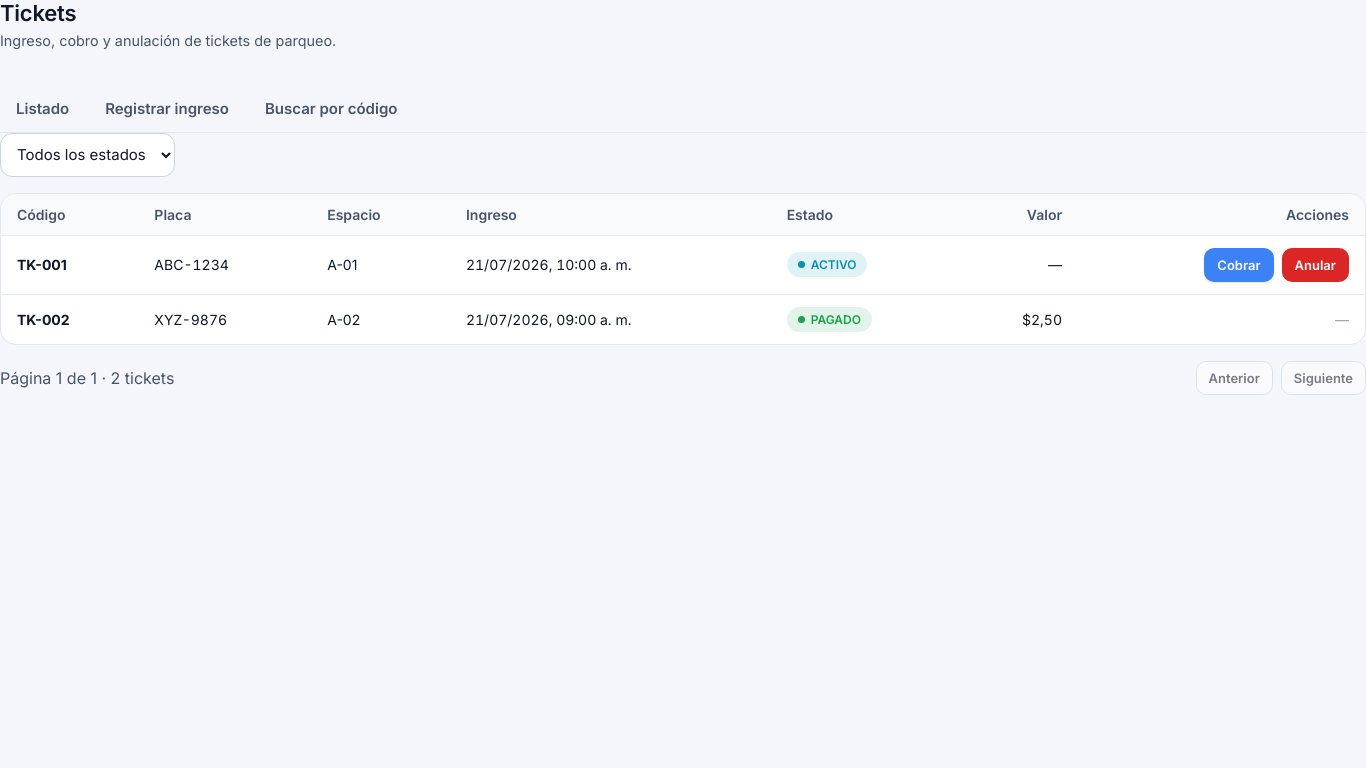
Test: TicketsPage › cancela el modal de anulación
Expected: the text "TK-001" is shown, [17,256,67,273]
Click the button "Anular" at (1315, 265), box [1282,248,1349,282]
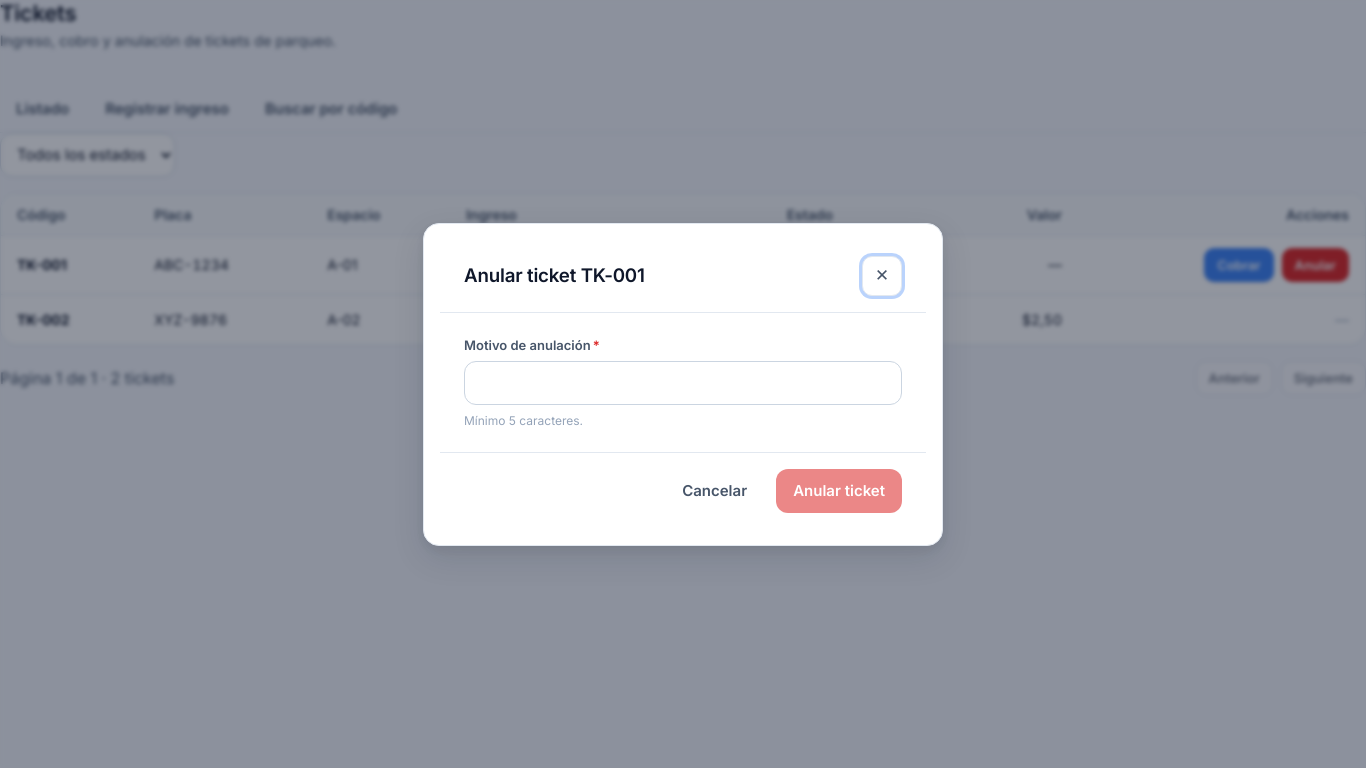
Now the field labelled "Motivo de anulación*" is shown, box [464,360,902,404]
Click the button "Cancelar" at (715, 490), box [665,468,764,512]
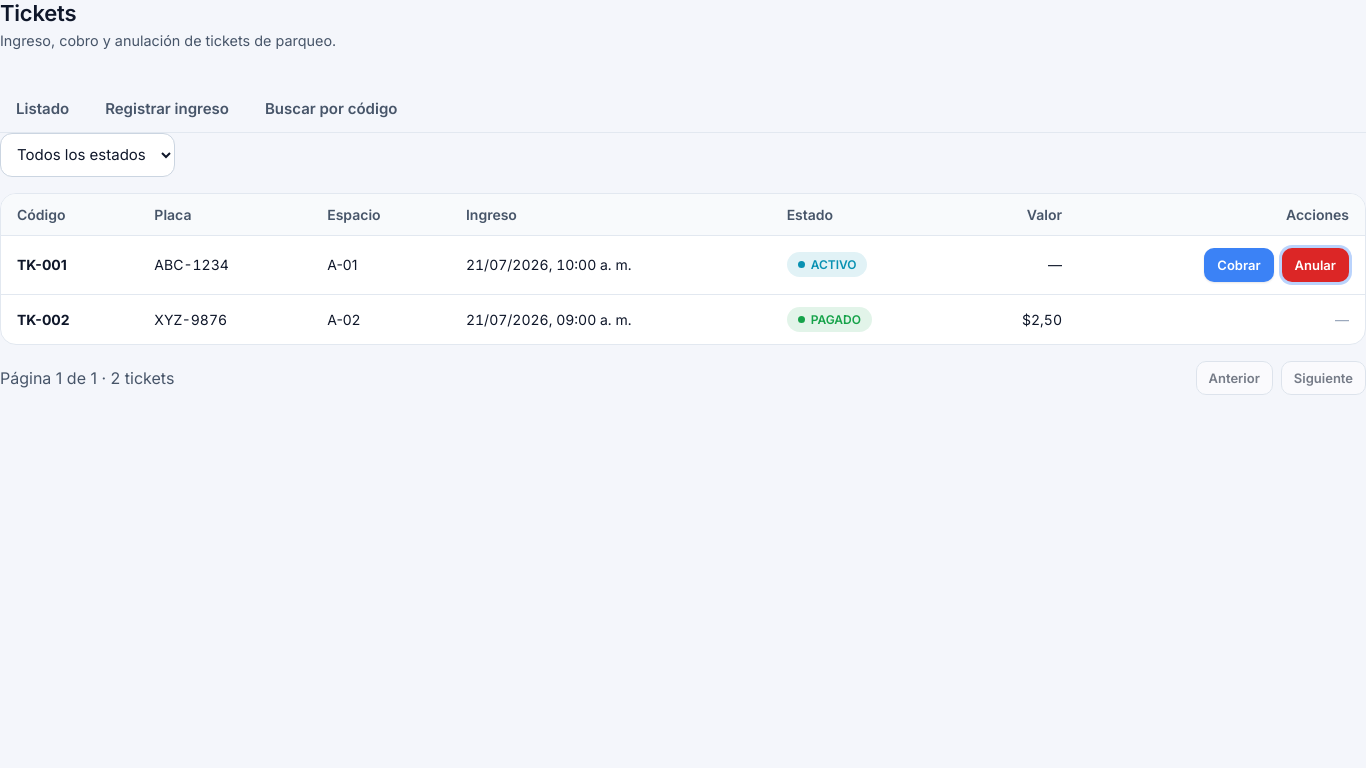
Now the label labelled "Motivo de anulación" is gone
